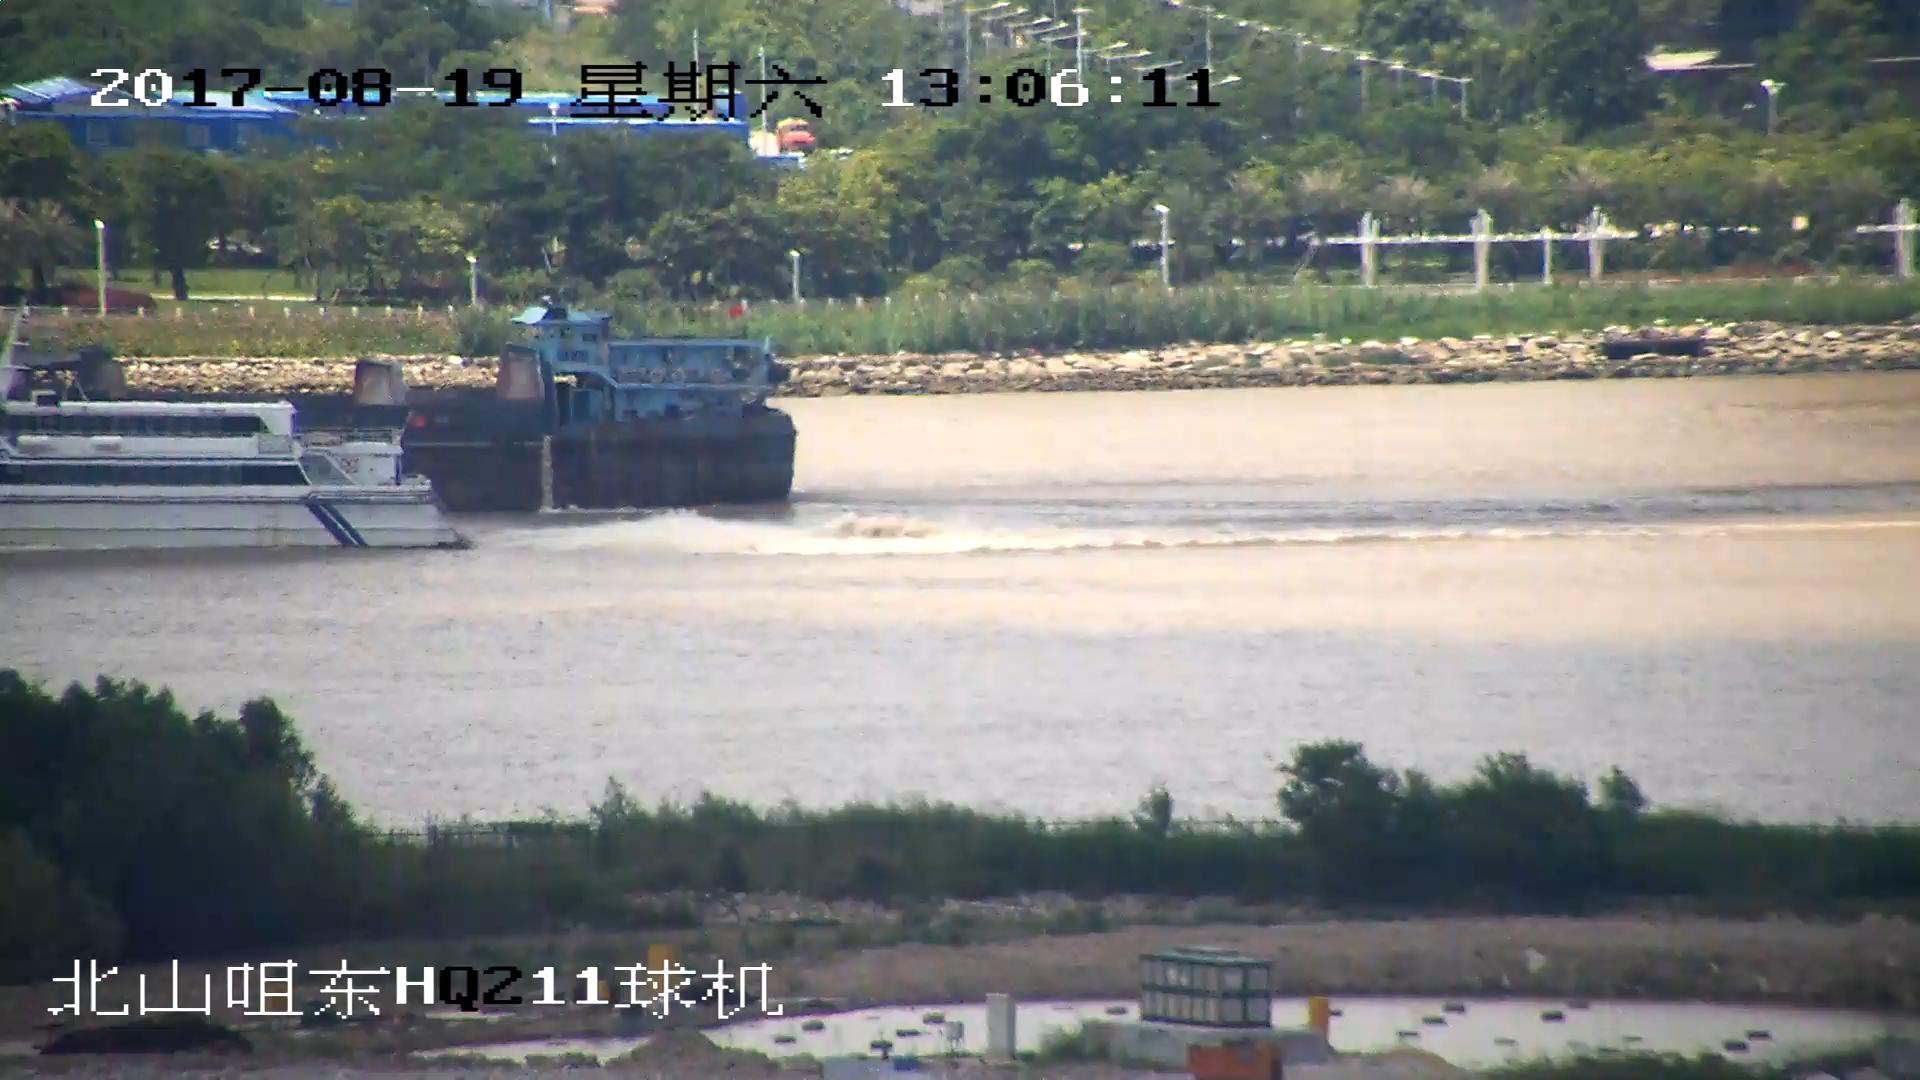bulk cargo carrier: (1, 295, 805, 508)
passenger ship: (1, 309, 468, 557)
